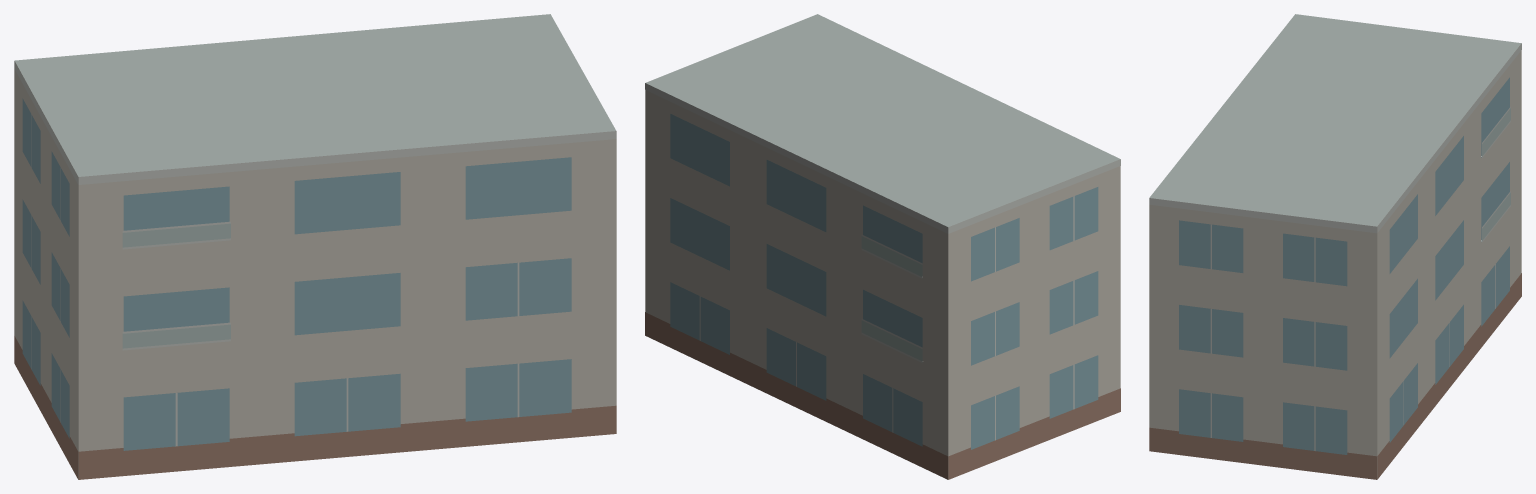
Rendered from survey-upis-33010764.glb.
3 renders of one model, left to right at view 1: azimuth 30°, elevation 25°; view 2: azimuth 150°, elevation 25°; view 3: azimuth 270°, elevation 25°, orthographic. The views are drawn at different scales.
Parts seen in each view (by area): view 1: survey-upis-33010764.tmp; view 2: survey-upis-33010764.tmp; view 3: survey-upis-33010764.tmp.
Part boxes in pixels (x1,y1,x2,y2): survey-upis-33010764.tmp: [14, 14, 616, 479]; survey-upis-33010764.tmp: [645, 14, 1120, 479]; survey-upis-33010764.tmp: [1149, 14, 1521, 479].
Size of the model in its own units: 16.49 by 9.15 by 12.21.
